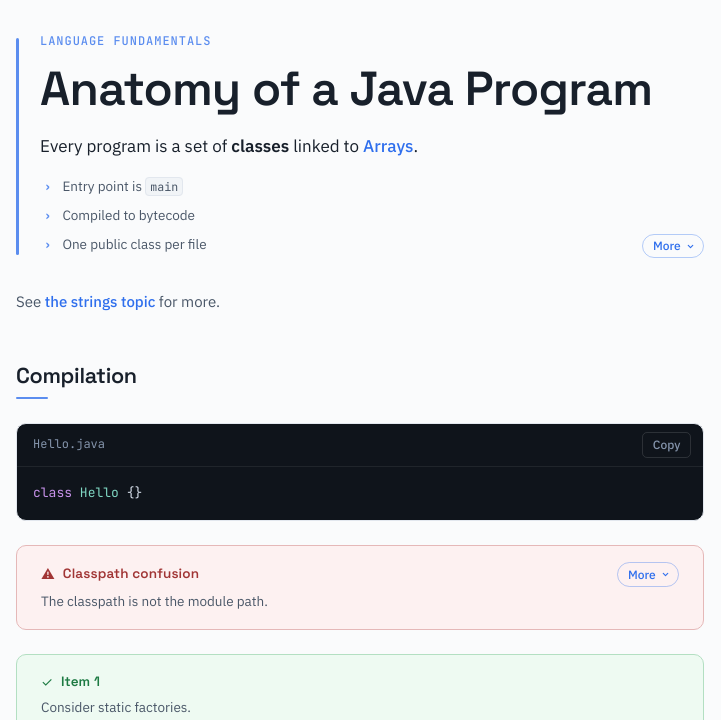
it: key points and callouts with a detail reveal it on toggle, and stay collapsed otherwise
Expected: the text "compiler only enforces this for the public top-level type" is not shown
Click the button "More" in the row of "One public class per file" at (673, 246), box x1=642 y1=234 x2=704 y2=258
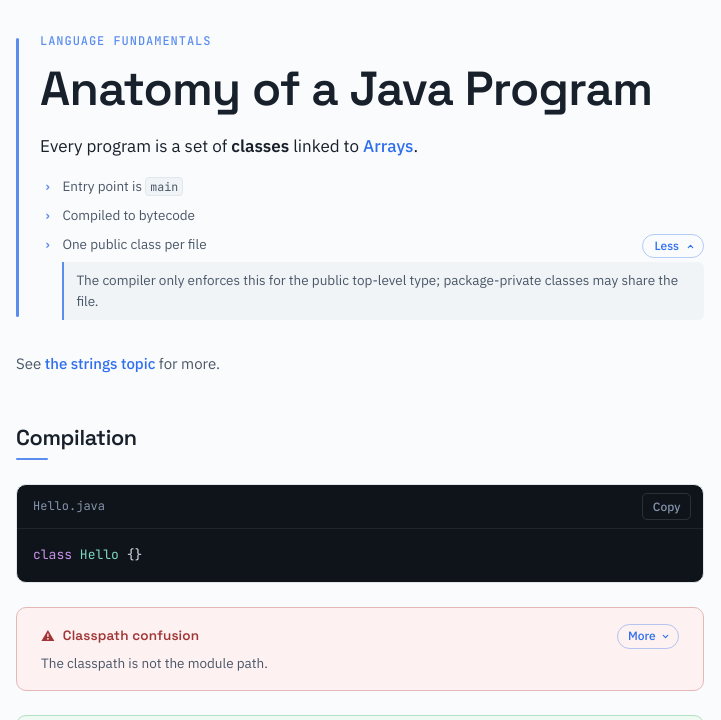
Expected: the text "compiler only enforces this for the public top-level type" is shown, x1=76 y1=271 x2=678 y2=310
Click the button with class "explain-toggle" showing "More" at (648, 636), box x1=617 y1=624 x2=679 y2=649
(page scrolled)
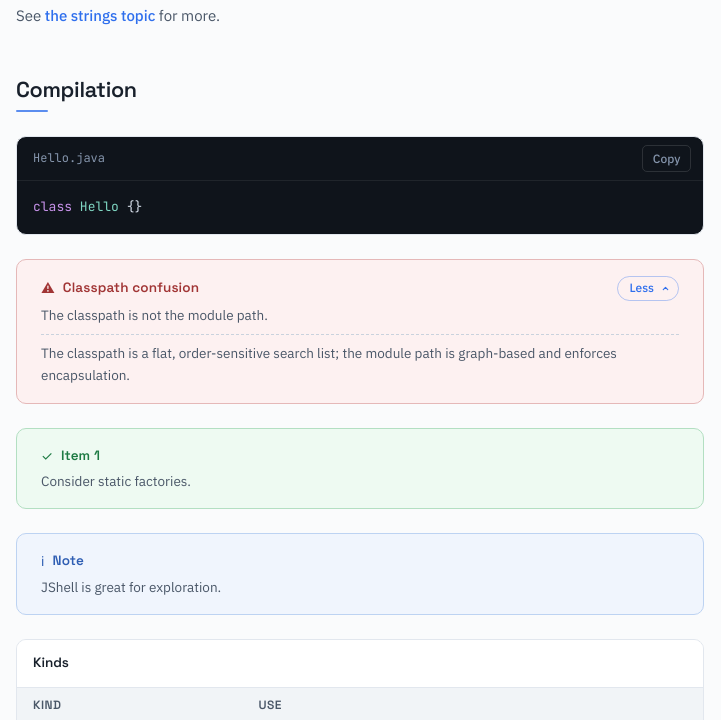
Expected: the text "graph-based and enforces encapsulation" is shown, x1=41 y1=344 x2=617 y2=384
